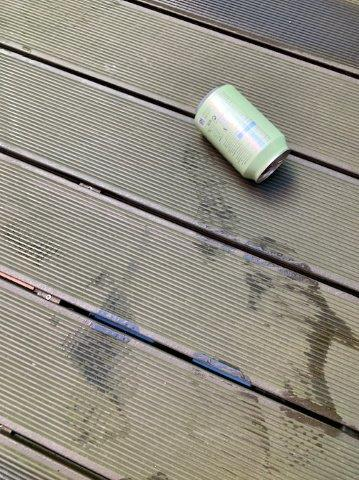kaleng: (195, 86, 289, 182)
